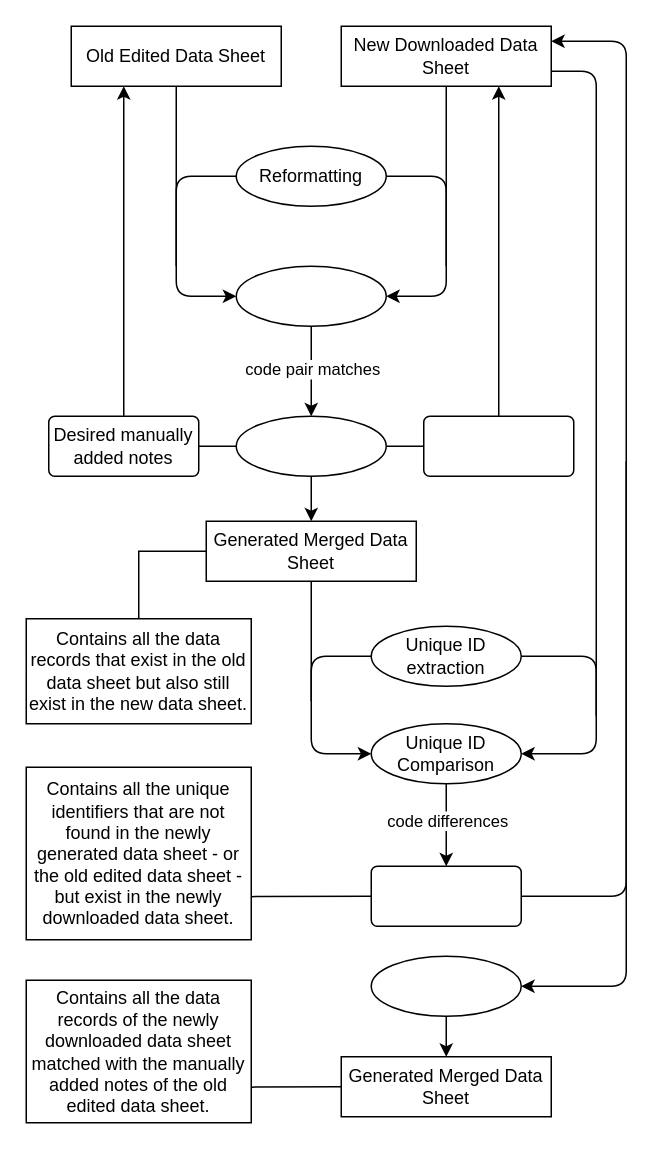
Some shapes in this 665 by 1149 pixel diagram are drawn without their labels. The centre of each missing label's shape, as x and y in pixels:
All new data i.e updated hours: the point at 498,445
data copy writes: the point at 445,985
data merge rewrites: the point at 310,445
New found codes: the point at 445,895
Unique ID matching: the point at 310,295
